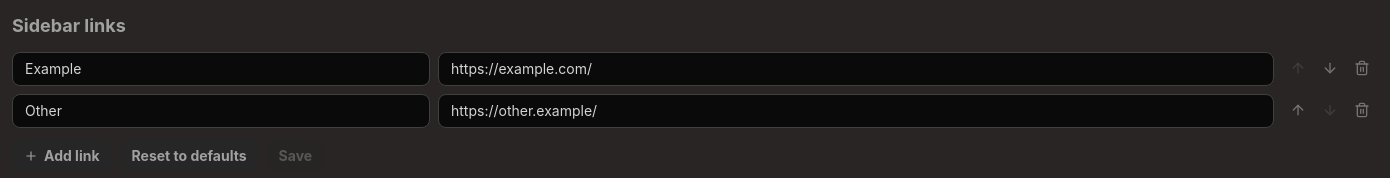
LinksEditor › shows storage errors
The width and height of the screenshot is (1390, 178).
Click the button named "Remove Example". click: (1362, 68)
box: x1=1346 y1=52 x2=1378 y2=84
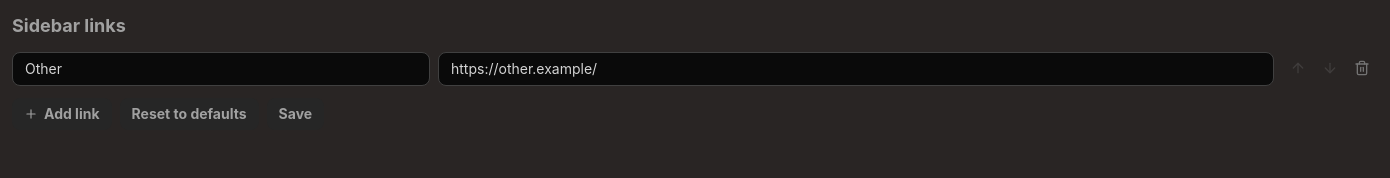
Click the button "Save". click: (295, 114)
box: x1=267 y1=98 x2=324 y2=130
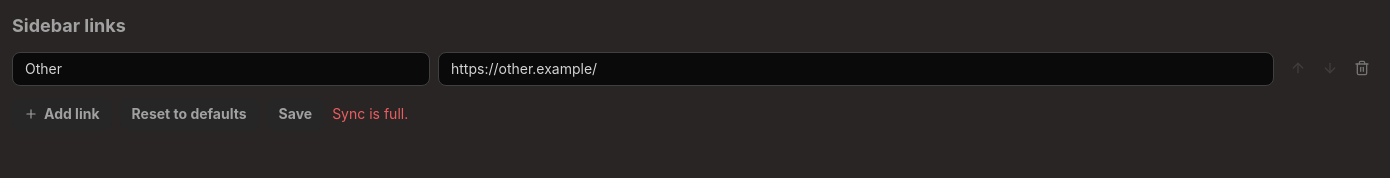
Expected: the text "Sync is full." is shown, x1=332 y1=104 x2=408 y2=124
